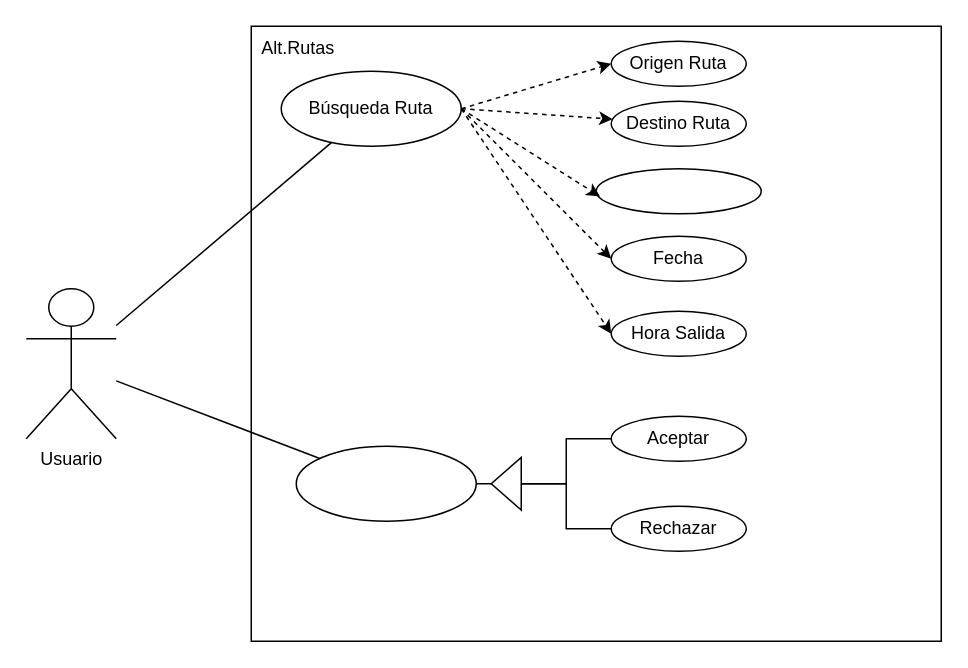
The diagram is 968 pixels wide and 668 high, and some of its shapes have lost their labels. The box of each missing label's shape, as (x1, y1, x2, y2) in pixels:
Confirmación: (295, 445, 476, 521)
Plazas a Reservar: (595, 167, 761, 214)
